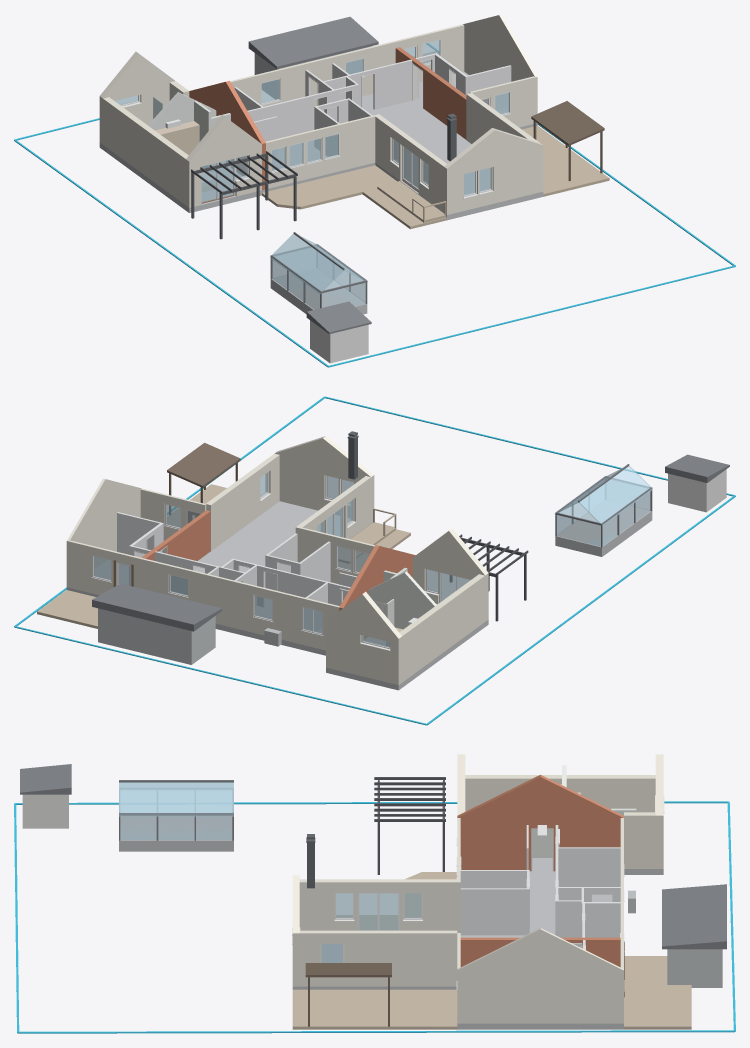
File: Barkgatan3_ext_west_45deg_flush_cutaway.glb
3 renders of one model, top to bottom at view 1: azimuth 30°, elevation 25°; view 2: azimuth 150°, elevation 25°; view 3: azimuth 270°, elevation 25°, orthographic. The views are drawn at different scales.
Visible parts, largest first — view 1: WALLS_EXT, EXT_WALLS, GLASS, SLAB, WALLS_INT, DECK_WOOD, CONTEXT_DARK, WALLS_BRICK, WINDOW_FRAME, LOT_LINE, PERGOLA, CANOPY (+4 smaller); view 2: WALLS_EXT, EXT_WALLS, SLAB, GLASS, WALLS_INT, CONTEXT_DARK, CONTEXT_GREY, DECK_WOOD, WALLS_BRICK, LOT_LINE, WINDOW_FRAME, EXT_INT_WALLS (+3 smaller); view 3: WALLS_EXT, DECK_WOOD, WALLS_BRICK, WALLS_INT, GLASS, SLAB, EXT_WALLS, CONTEXT_DARK, LOT_LINE, PERGOLA, CONTEXT_GREY, CONTEXT_WALL (+3 smaller).
Part boxes in pixels (<box>): WALLS_EXT: <box>230,14,543,214</box>; EXT_WALLS: <box>99,51,261,207</box>; GLASS: <box>115,40,509,309</box>; SLAB: <box>99,71,543,314</box>; WALLS_INT: <box>234,53,511,156</box>; DECK_WOOD: <box>262,51,609,229</box>; CONTEXT_DARK: <box>248,16,378,334</box>; WALLS_BRICK: <box>189,47,466,190</box>; WINDOW_FRAME: <box>120,39,511,199</box>; LOT_LINE: <box>14,43,735,367</box>; PERGOLA: <box>191,151,297,239</box>; CANOPY: <box>531,101,604,181</box>; WALLS_EXT: <box>66,436,374,650</box>; EXT_WALLS: <box>326,528,488,685</box>; SLAB: <box>66,500,652,690</box>; GLASS: <box>93,466,652,647</box>; WALLS_INT: <box>117,512,378,631</box>; CONTEXT_DARK: <box>92,454,729,631</box>; CONTEXT_GREY: <box>98,608,281,664</box>; DECK_WOOD: <box>37,484,428,628</box>; WALLS_BRICK: <box>141,510,415,638</box>; LOT_LINE: <box>14,396,735,725</box>; WINDOW_FRAME: <box>91,472,457,651</box>; EXT_INT_WALLS: <box>368,568,436,645</box>; WALLS_EXT: <box>292,818,623,1023</box>; DECK_WOOD: <box>292,872,691,1029</box>; WALLS_BRICK: <box>457,774,623,967</box>; WALLS_INT: <box>460,825,620,949</box>; GLASS: <box>119,782,421,962</box>; SLAB: <box>119,816,663,1029</box>; EXT_WALLS: <box>457,754,663,868</box>; CONTEXT_DARK: <box>20,764,726,949</box>; LOT_LINE: <box>14,801,735,1033</box>; PERGOLA: <box>374,777,445,874</box>; CONTEXT_GREY: <box>628,890,722,987</box>; CONTEXT_WALL: <box>22,794,68,828</box>.
Bounding box in the file's own units: 24.76 × 5.49 × 32.64.
